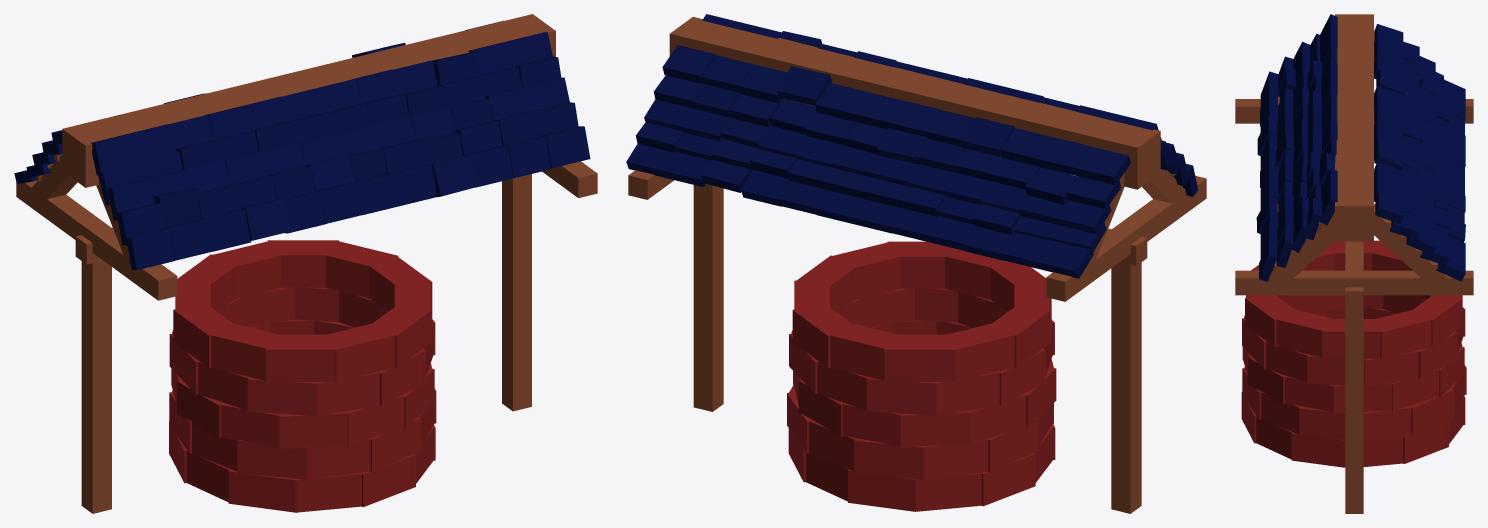
Rendered from Well.fbx.
The picture shows the model from 3 angles, left to right: view 1: azimuth 30°, elevation 25°; view 2: azimuth 150°, elevation 25°; view 3: azimuth 270°, elevation 25°; orthographic projection. The views are drawn at different scales.
Parts seen in each view (by area): view 1: Wood.011, Wood, Wood.001, Wood.007, Cube.004, Cube.005, Cube.003, Cube.009, Cube.011, Cube.028, Cube.016, Cube.010 (+88 smaller); view 2: Wood.011, Wood, Wood.001, Wood.007, Cube.008, Cube.007, Cube.009, Cube.001, Cube.032, Cube.020, Cube.044, Cube.010 (+89 smaller); view 3: Wood.011, Wood.003, Wood.001, Cube.011, Cube.001, Cube, Wood.006, Cube.023, Cube.048, Cube.010, Cube.002, Wood.005 (+80 smaller).
Part boxes in pixels (bbox=[...]): Wood.011: bbox=[62, 14, 555, 187]; Wood: bbox=[81, 260, 111, 513]; Wood.001: bbox=[502, 174, 531, 411]; Wood.007: bbox=[16, 180, 177, 300]; Cube.004: bbox=[266, 334, 337, 381]; Cube.005: bbox=[206, 321, 285, 380]; Cube.003: bbox=[327, 323, 394, 381]; Cube.009: bbox=[210, 240, 289, 298]; Cube.011: bbox=[321, 241, 398, 298]; Cube.028: bbox=[279, 410, 350, 448]; Cube.016: bbox=[247, 377, 318, 415]; Cube.010: bbox=[267, 240, 338, 287]; Wood.011: bbox=[669, 17, 1160, 189]; Wood: bbox=[1111, 257, 1141, 513]; Wood.001: bbox=[693, 184, 723, 411]; Wood.007: bbox=[1046, 176, 1206, 301]; Cube.008: bbox=[884, 334, 955, 381]; Cube.007: bbox=[938, 322, 1016, 381]; Cube.009: bbox=[825, 323, 904, 380]; Cube.001: bbox=[833, 241, 908, 299]; Cube.032: bbox=[900, 410, 971, 447]; Cube.020: bbox=[866, 376, 936, 415]; Cube.044: bbox=[854, 439, 924, 479]; Cube.010: bbox=[792, 302, 858, 367]; Wood.011: bbox=[1335, 14, 1373, 241]; Wood.003: bbox=[1235, 270, 1473, 295]; Wood.001: bbox=[1345, 308, 1363, 513]; Cube.011: bbox=[1367, 308, 1431, 358]; Cube.001: bbox=[1272, 308, 1338, 357]; Cube: bbox=[1322, 319, 1382, 358]; Wood.006: bbox=[1262, 211, 1334, 294]; Cube.023: bbox=[1364, 351, 1418, 387]; Cube.048: bbox=[1291, 432, 1345, 467]; Cube.010: bbox=[1407, 296, 1462, 347]; Cube.002: bbox=[1245, 295, 1293, 346]; Wood.005: bbox=[1374, 204, 1449, 290].
Size of the model in its own units: 490 by 378 by 256.
